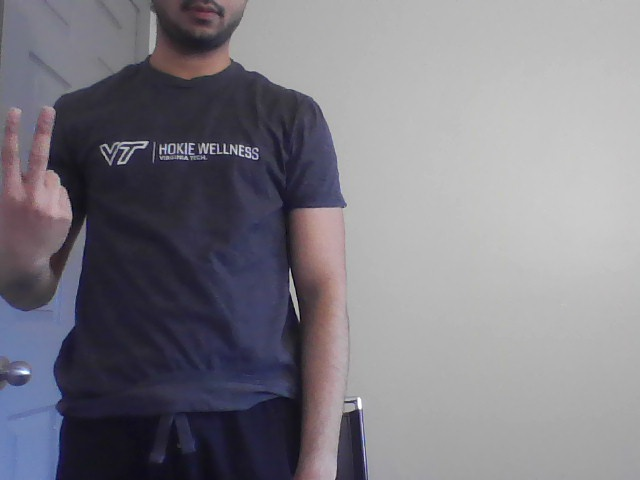two: (2, 98, 76, 268)
